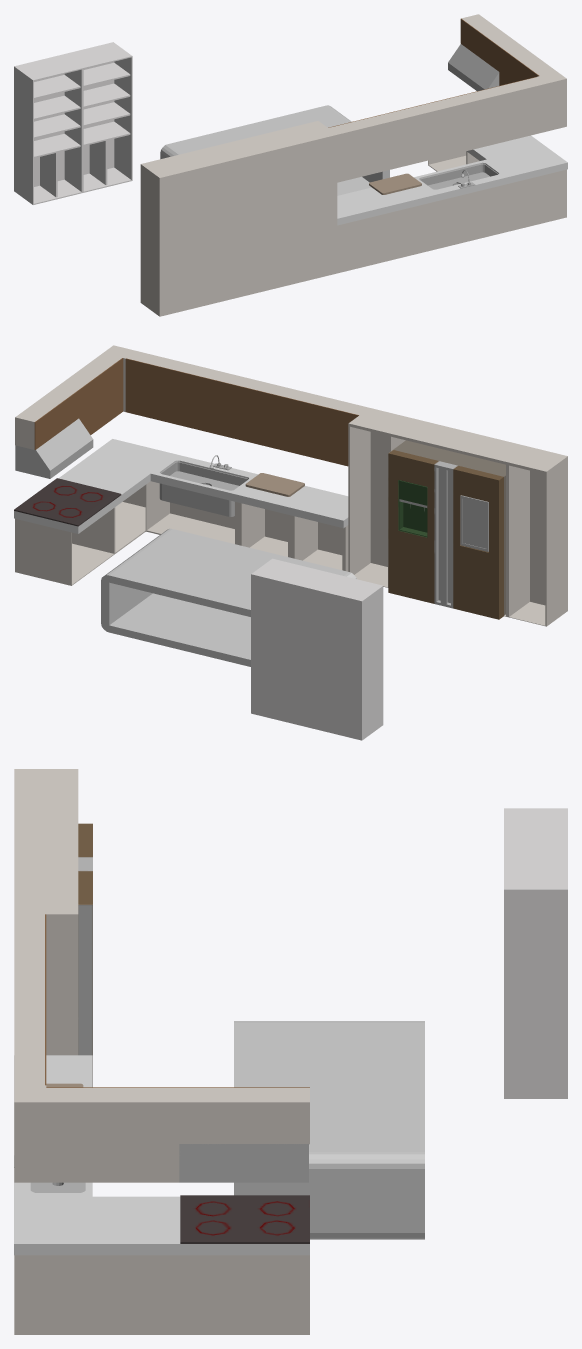
File: Kitchen.fbx
3 renders of one model, top to bottom at view 1: azimuth 30°, elevation 25°; view 2: azimuth 150°, elevation 25°; view 3: azimuth 270°, elevation 25°, orthographic. The views are drawn at different scales.
Parts seen in each view (by area): view 1: Kitchen; view 2: Kitchen; view 3: Kitchen.
Boxes of the visible parts, left/top/right/bottom form: Kitchen: left=14, top=14, right=567, bottom=316; Kitchen: left=14, top=345, right=567, bottom=740; Kitchen: left=14, top=769, right=567, bottom=1334.
Size of the model in its own units: 616 by 200 by 432.
